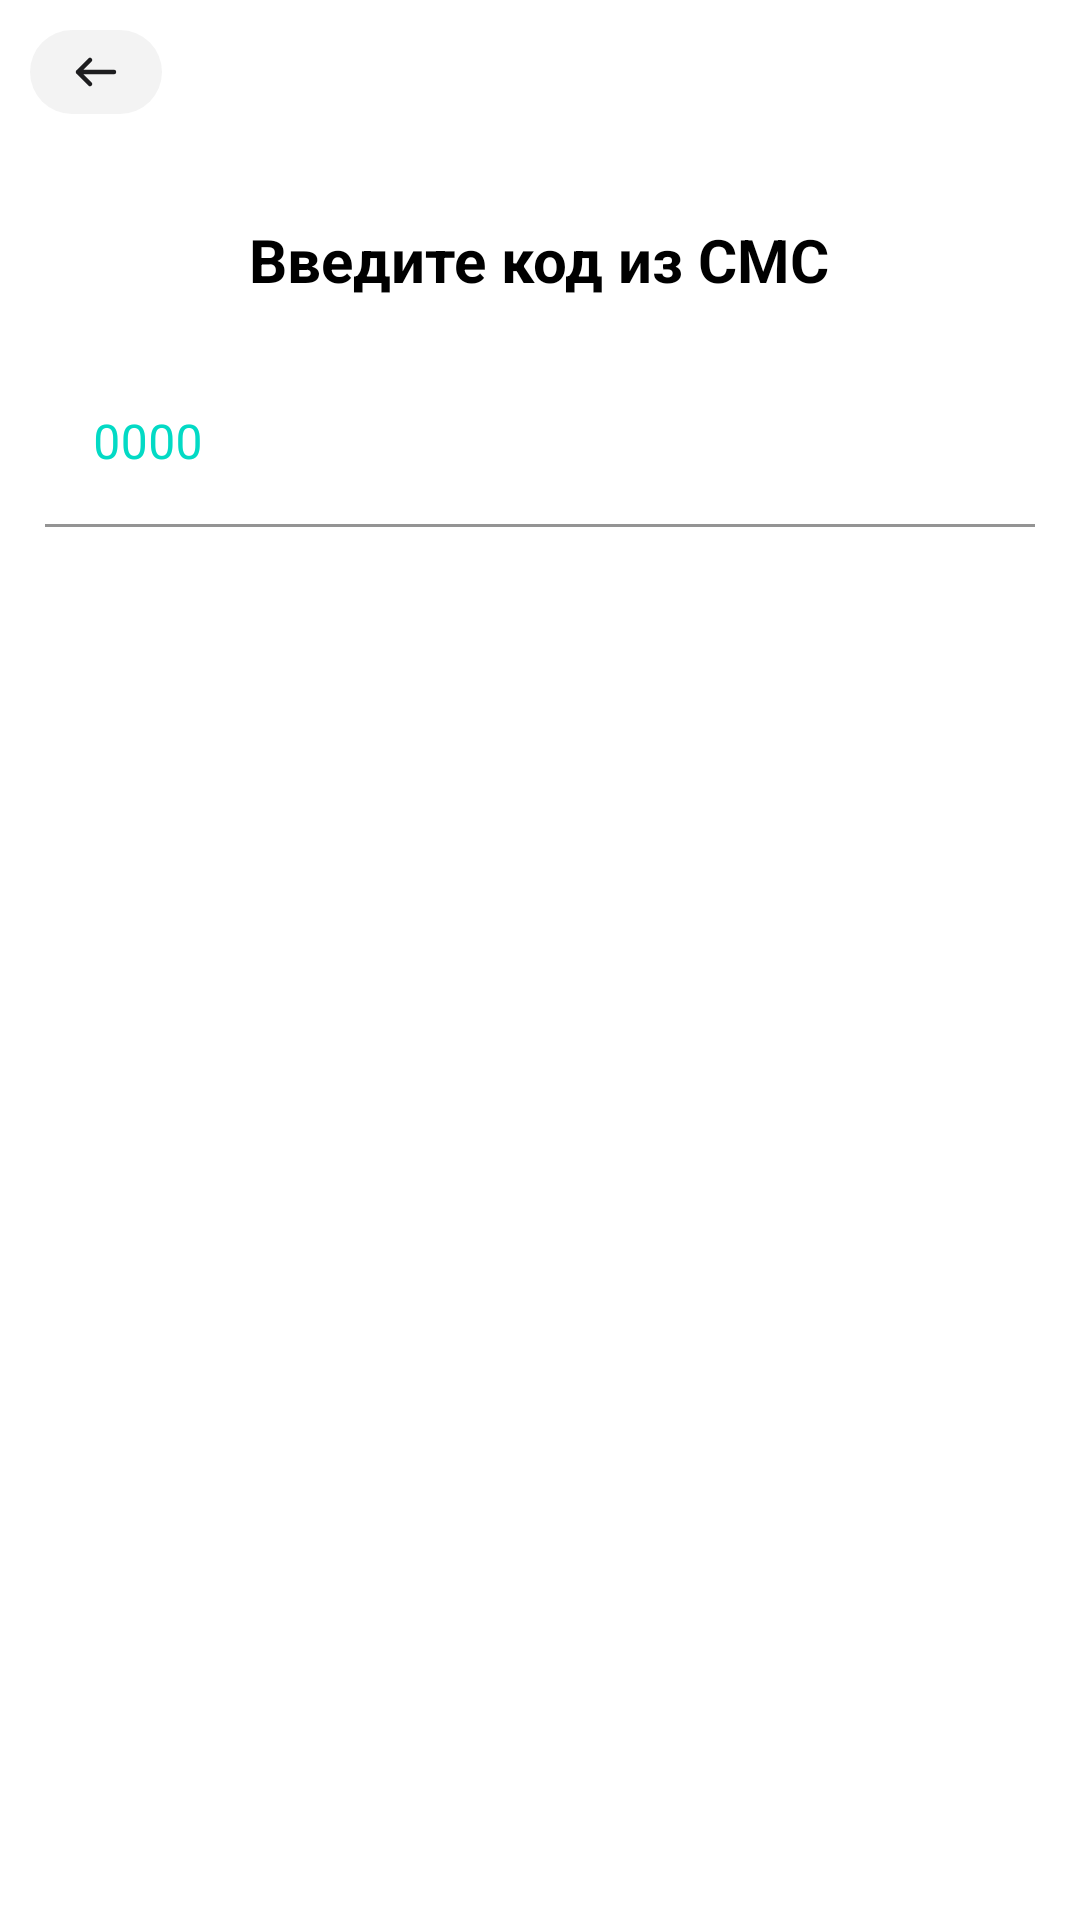

Icons on this 1080w x 1920h Android screen, each with its box as (x1, y1, x2, y2):
back: (30, 30, 162, 114)
